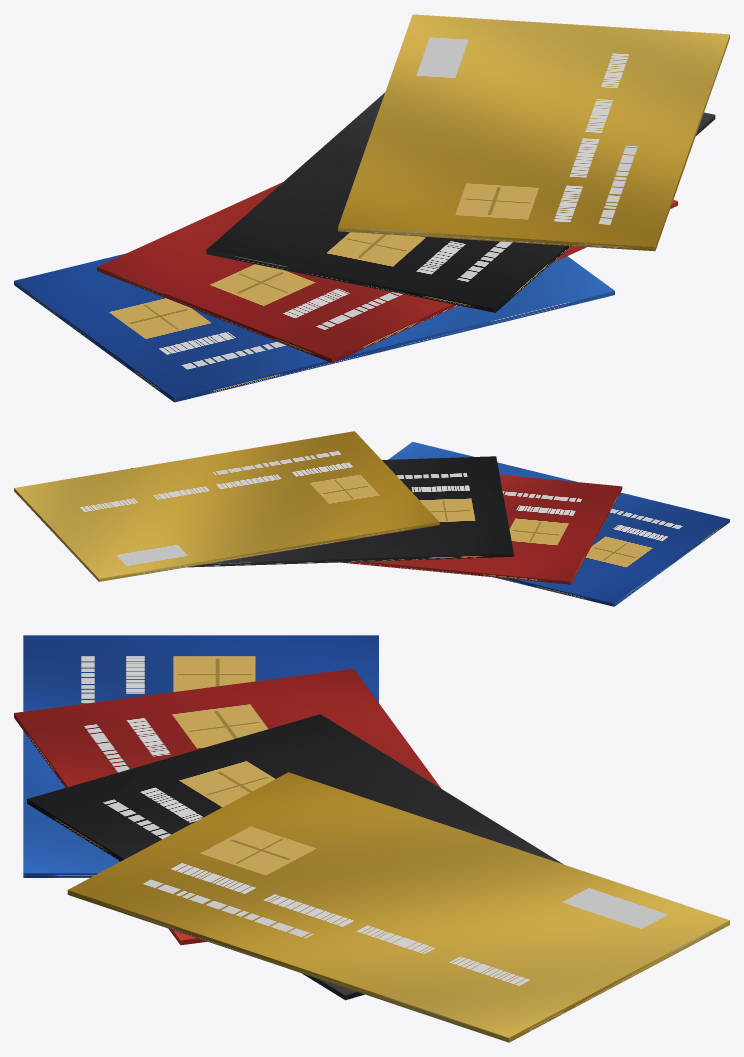
The model's file is cartoes.glb.
The picture shows the model from 3 angles, top to bottom: view 1: azimuth 30°, elevation 25°; view 2: azimuth 150°, elevation 25°; view 3: azimuth 270°, elevation 25°; orthographic projection. The views are drawn at different scales.
Visible parts, largest first — view 1: Cartao_3, Cartao_0, Cartao_2, Cartao_1; view 2: Cartao_3, Cartao_2, Cartao_1, Cartao_0; view 3: Cartao_3, Cartao_2, Cartao_0, Cartao_1.
Part boxes in pixels (x1,y1,x2,y2): Cartao_3: (338, 14, 729, 251); Cartao_0: (14, 253, 614, 402); Cartao_2: (206, 93, 715, 312); Cartao_1: (97, 182, 677, 363); Cartao_3: (14, 431, 439, 581); Cartao_2: (131, 456, 513, 567); Cartao_1: (340, 474, 622, 584); Cartao_0: (388, 442, 729, 606); Cartao_3: (67, 772, 729, 1042); Cartao_2: (27, 714, 563, 1000); Cartao_0: (23, 635, 378, 877); Cartao_1: (14, 668, 441, 945).
Bounding box in the file's own units: 0.1506 × 0.0035 × 0.1088.
4 materials, 4 textured.
